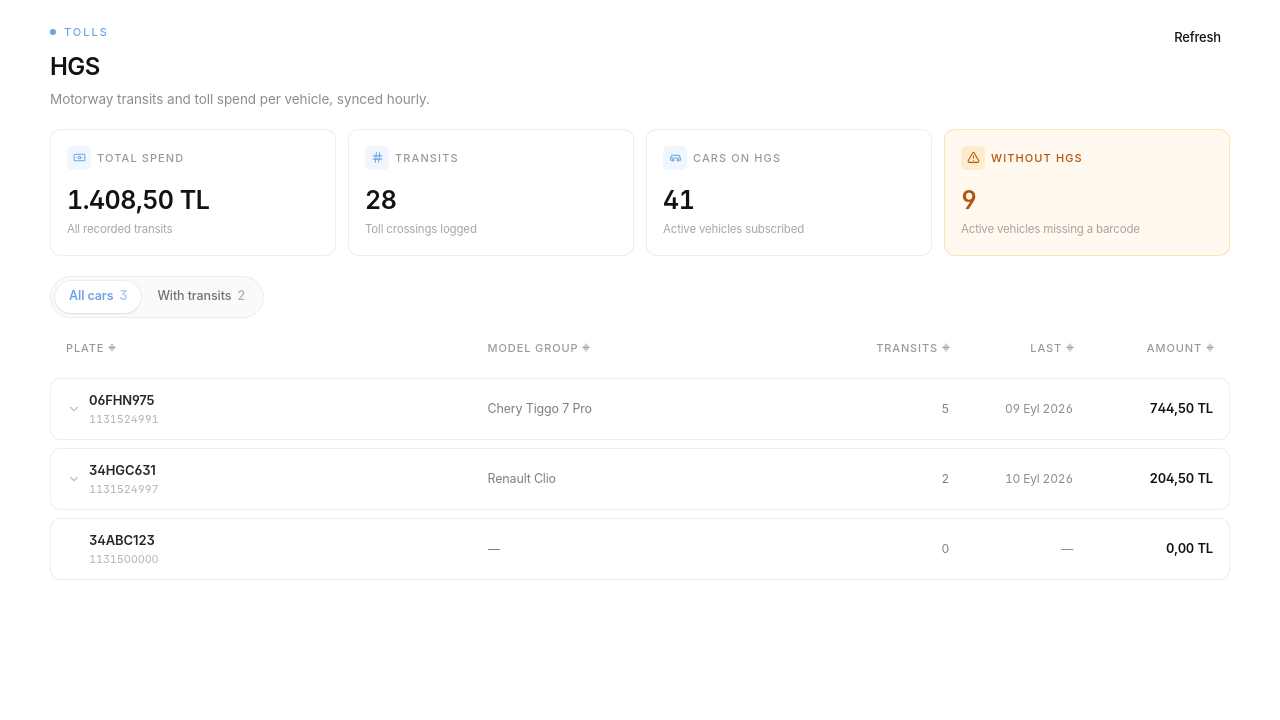
Test: the All cars / With transits filter still works
Check: the text "06FHN975" is shown, box [89,391,159,410]
Check: the text "34ABC123" is shown, box [89,531,159,550]
Click the button "With transits 2": (201, 296) [143,280,259,312]
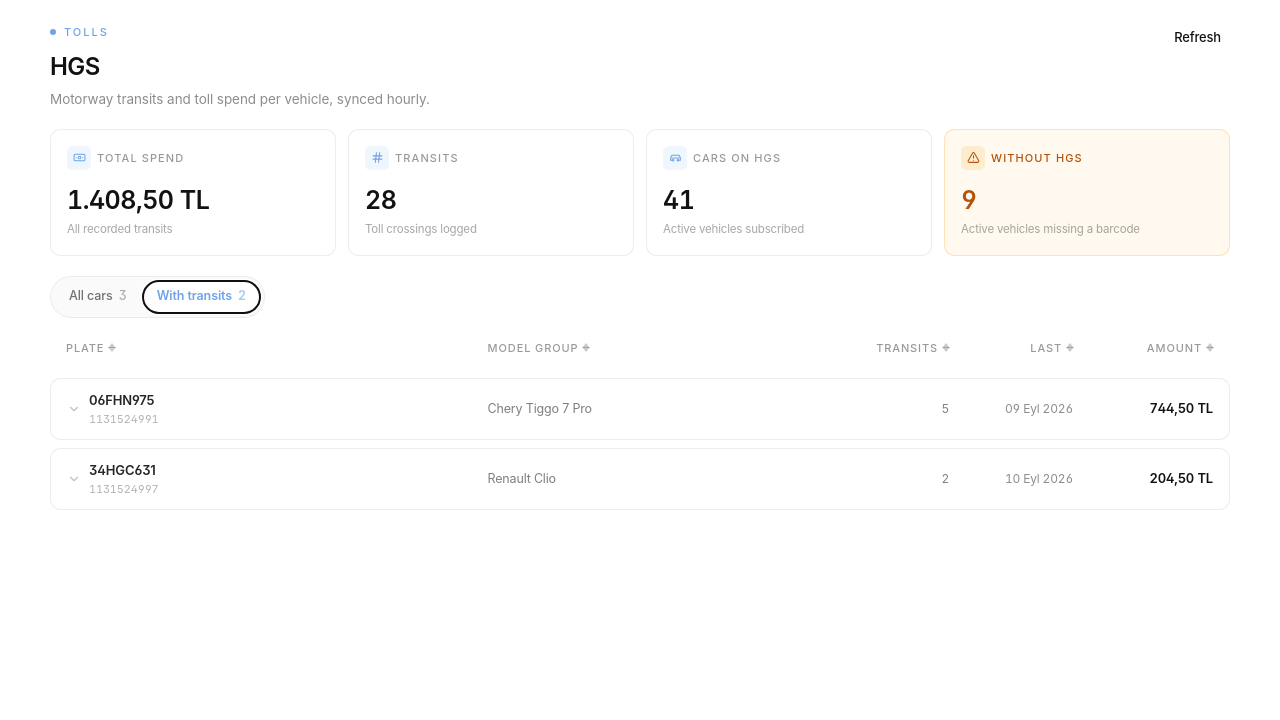
Check: the text "06FHN975" is shown, box [89,391,159,410]
Check: the button "34ABC123" is gone
